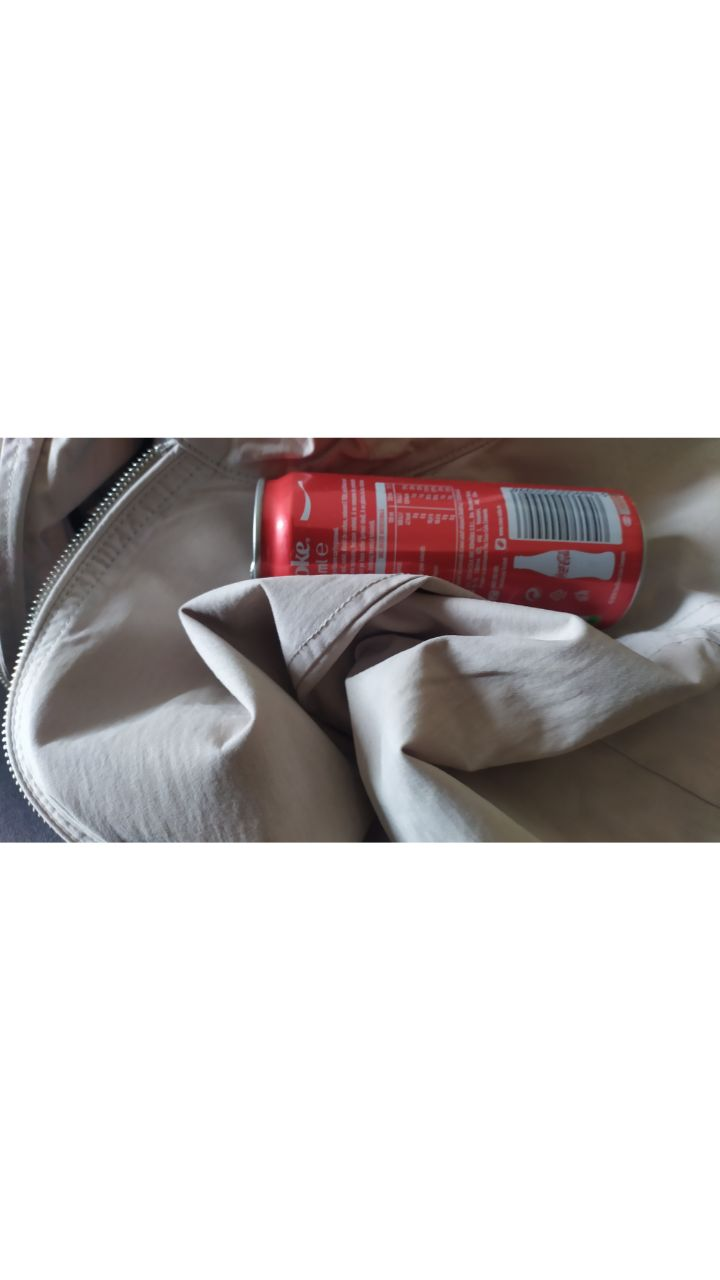Can: (244, 467, 653, 625)
